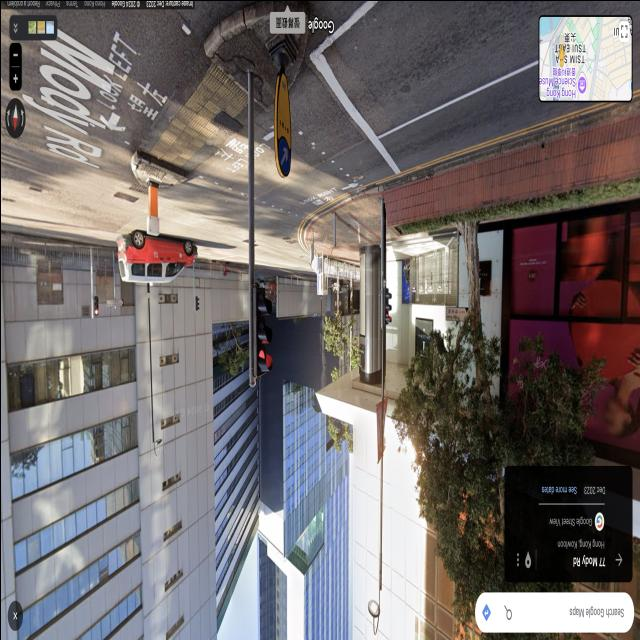Order-Sign: (278, 136, 290, 176)
Street-Direction-Sign: (445, 306, 465, 321), (106, 299, 122, 305)
